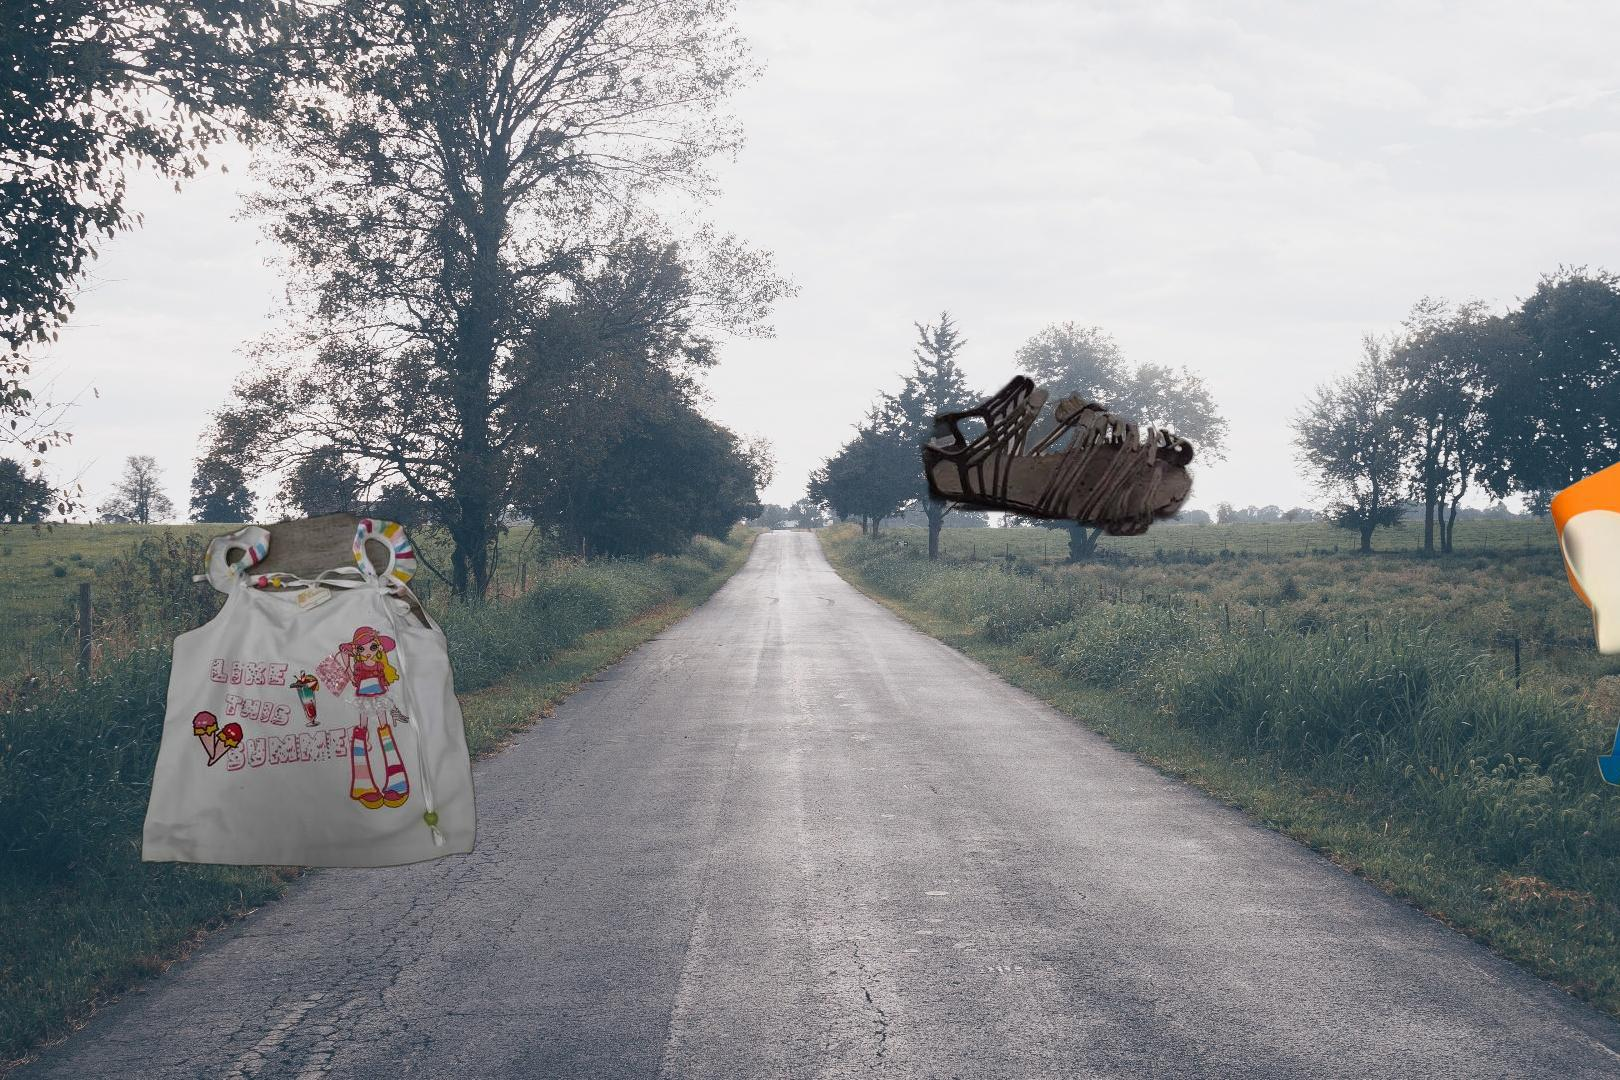clothes: (137, 501, 480, 873)
paper: (1519, 416, 1620, 800)
shoes: (902, 375, 1202, 536)
